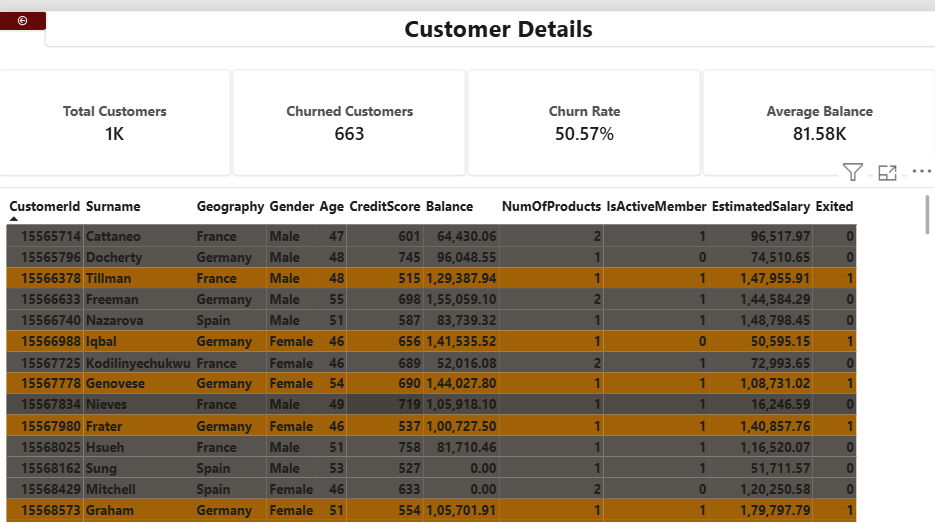

What the dashboard file says about the page in this screenshot:
{"tool":"powerbi","page":{"name":"Customer Details","canvas":[1920,1080],"ordinal":2},"visuals":[{"type":"textbox","box":[96,0,1824,72],"z":0},{"type":"actionButton","box":[0,0,100,40],"z":1000},{"type":"cardVisual","fields":{"Data":["FactCustomer.Total Customers"]},"box":[0,120,475,216],"z":2000},{"type":"cardVisual","fields":{"Data":["FactCustomer.Average Balance"]},"box":[1440,120,475,216],"z":3000},{"type":"cardVisual","fields":{"Data":["FactCustomer.Churn Rate"]},"box":[960,120,475,216],"z":4000},{"type":"cardVisual","fields":{"Data":["FactCustomer.Churned Customers"]},"box":[480,120,475,216],"z":5000},{"type":"tableEx","fields":{"Values":["FactCustomer.CustomerId","FactCustomer.Surname","DimGeography.Geography","FactCustomer.Gender","FactCustomer.Age","FactCustomer.CreditScore","FactCustomer.Balance","FactCustomer.NumOfProducts","FactCustomer.IsActiveMember","FactCustomer.EstimatedSalary","FactCustomer.Exited"]},"box":[0,360,1920,720],"z":6000}]}

Visuals, with their boxes in screenshot pixels (x1, y1, x2, y2), scaled from the page's 1920x1080 canvas onto the 935x522 screenshot:
textbox: 47/0/934/35
actionButton: 0/0/49/19
cardVisual - FactCustomer.Total Customers: 0/58/231/162
cardVisual - FactCustomer.Average Balance: 701/58/933/162
cardVisual - FactCustomer.Churn Rate: 468/58/699/162
cardVisual - FactCustomer.Churned Customers: 234/58/465/162
tableEx - FactCustomer.CustomerId x FactCustomer.Surname: 0/174/934/521
